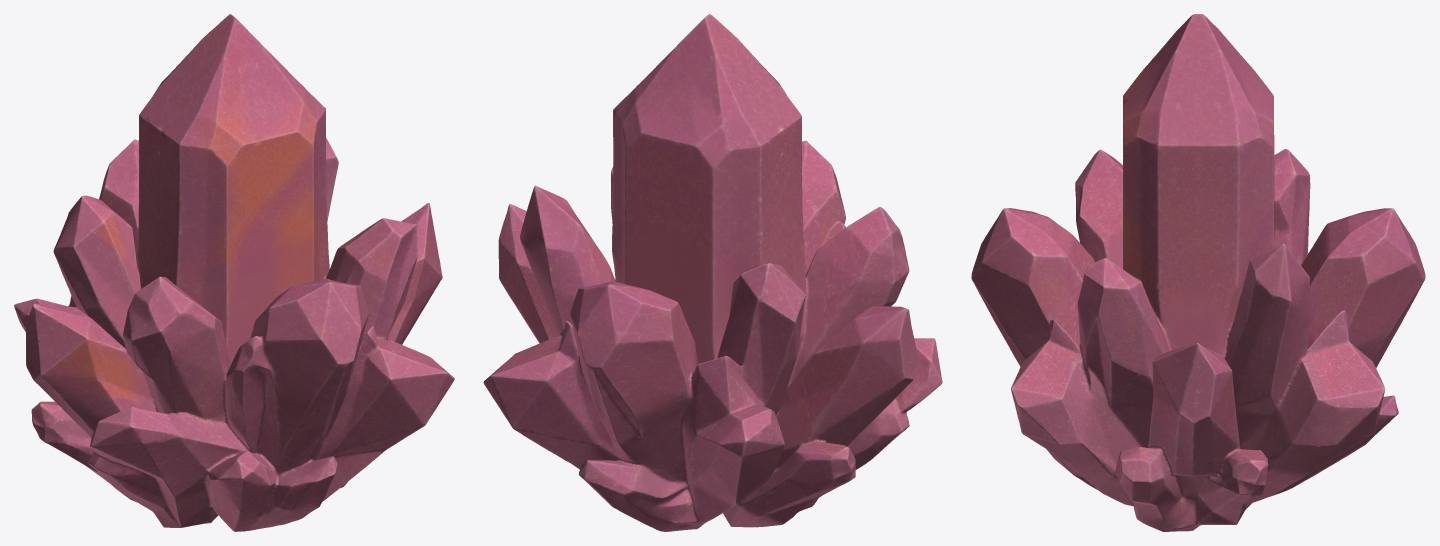
Rendered from Meshy_AI_Sugar_Crystal.glb.
The picture shows the model from 3 angles, left to right: view 1: azimuth 30°, elevation 25°; view 2: azimuth 150°, elevation 25°; view 3: azimuth 270°, elevation 25°; orthographic projection.
Bounding box in the file's own units: 1.6 × 1.89 × 1.56.
1 material, 1 textured.
